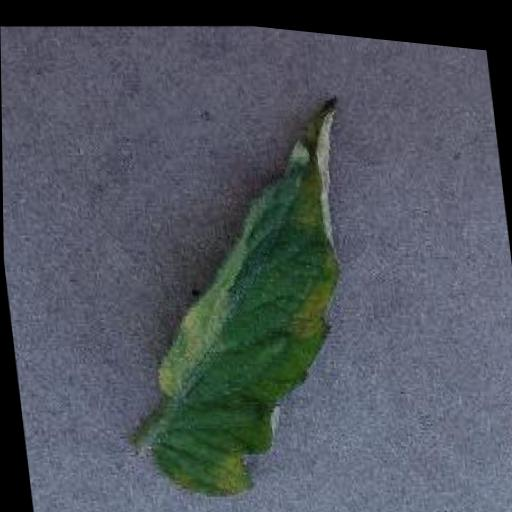Leaf Mold: (114, 66, 381, 512)
